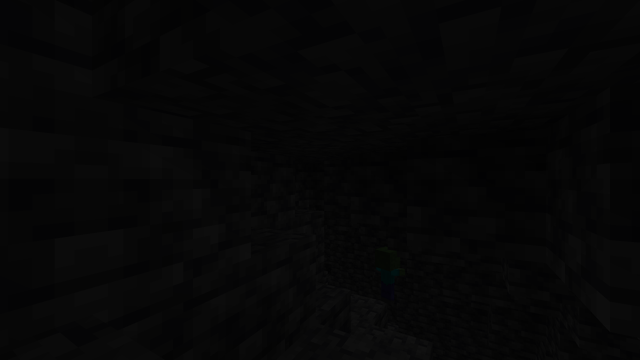zombies: (378, 253, 395, 305)
